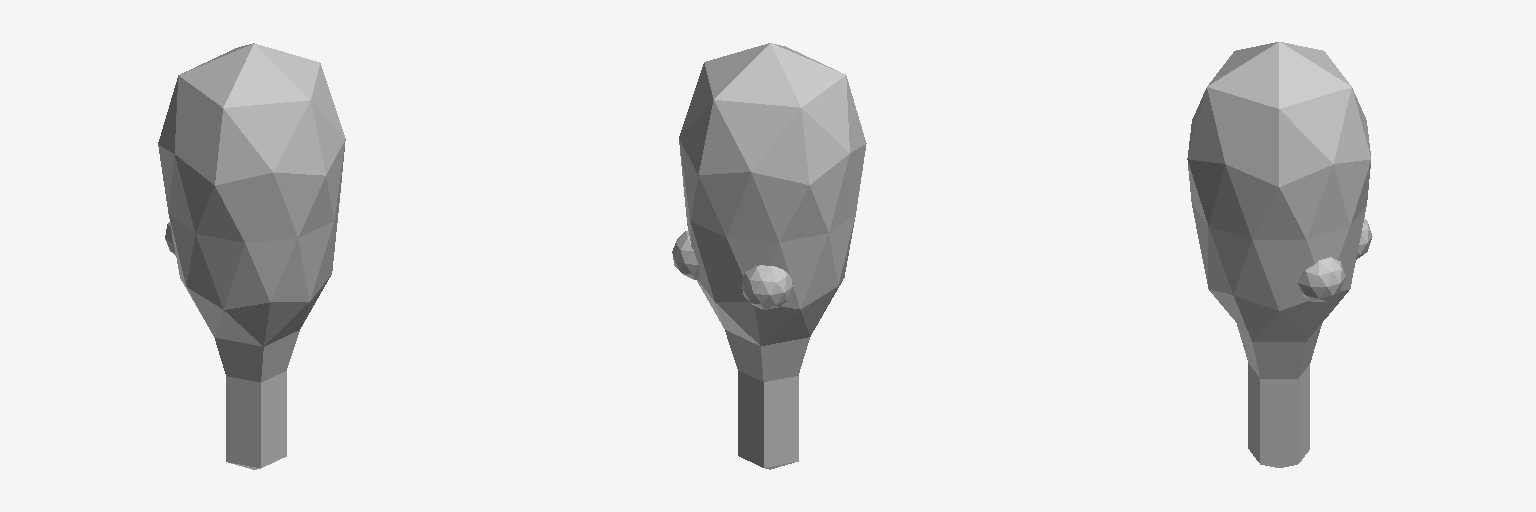
The model's file is head.obj.
The picture shows the model from 3 angles: view 1: azimuth 30°, elevation 25°; view 2: azimuth 150°, elevation 25°; view 3: azimuth 270°, elevation 25°; orthographic projection.
Visible parts, largest first — view 1: Icosphere; view 2: Icosphere, Icosphere.001, Icosphere.002_Icosphere.003; view 3: Icosphere, Icosphere.002_Icosphere.003.
Boxes of the visible parts, box(x1,y1,x2,y2) form: Icosphere: box(158, 43, 345, 469); Icosphere: box(679, 43, 866, 469); Icosphere.001: box(742, 265, 792, 309); Icosphere.002_Icosphere.003: box(672, 231, 698, 279); Icosphere: box(1187, 42, 1370, 467); Icosphere.002_Icosphere.003: box(1298, 257, 1345, 301).
Size of the model in its own units: 2.15 by 5.37 by 2.11.